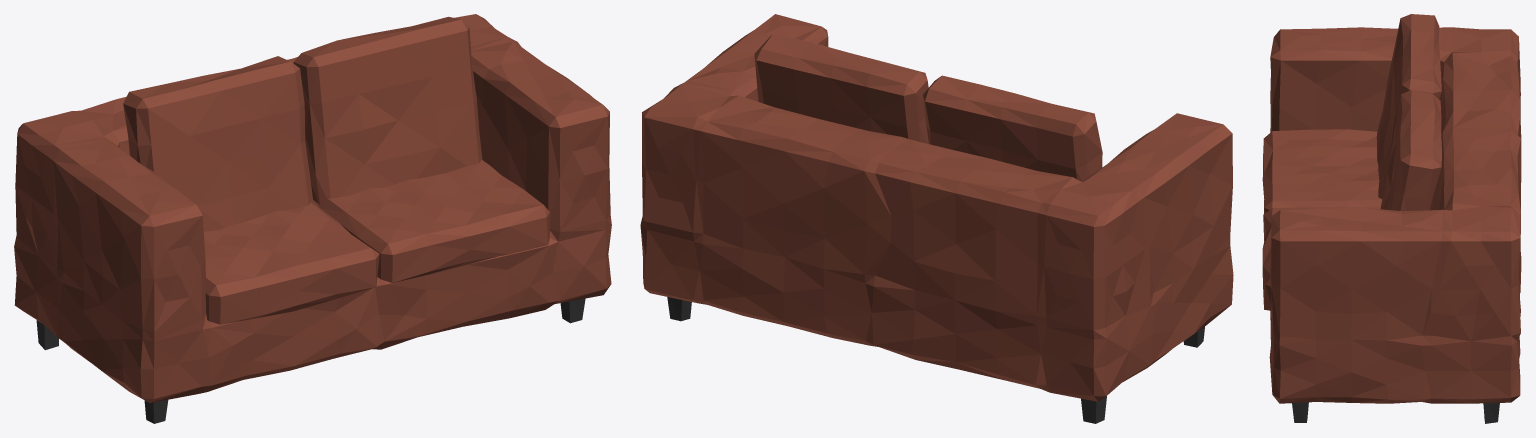
The model's file is livingroom_couch.fbx.
The picture shows the model from 3 angles, left to right: view 1: azimuth 30°, elevation 25°; view 2: azimuth 150°, elevation 25°; view 3: azimuth 270°, elevation 25°; orthographic projection. The views are drawn at different scales.
Parts seen in each view (by area): view 1: livingroom_couch; view 2: livingroom_couch; view 3: livingroom_couch.
Boxes of the visible parts, x1,y1,x2,y2 form: livingroom_couch: (14,14,611,423); livingroom_couch: (640,14,1233,423); livingroom_couch: (1262,14,1521,423).
Size of the model in its own units: 167 by 90.92 by 86.82.
